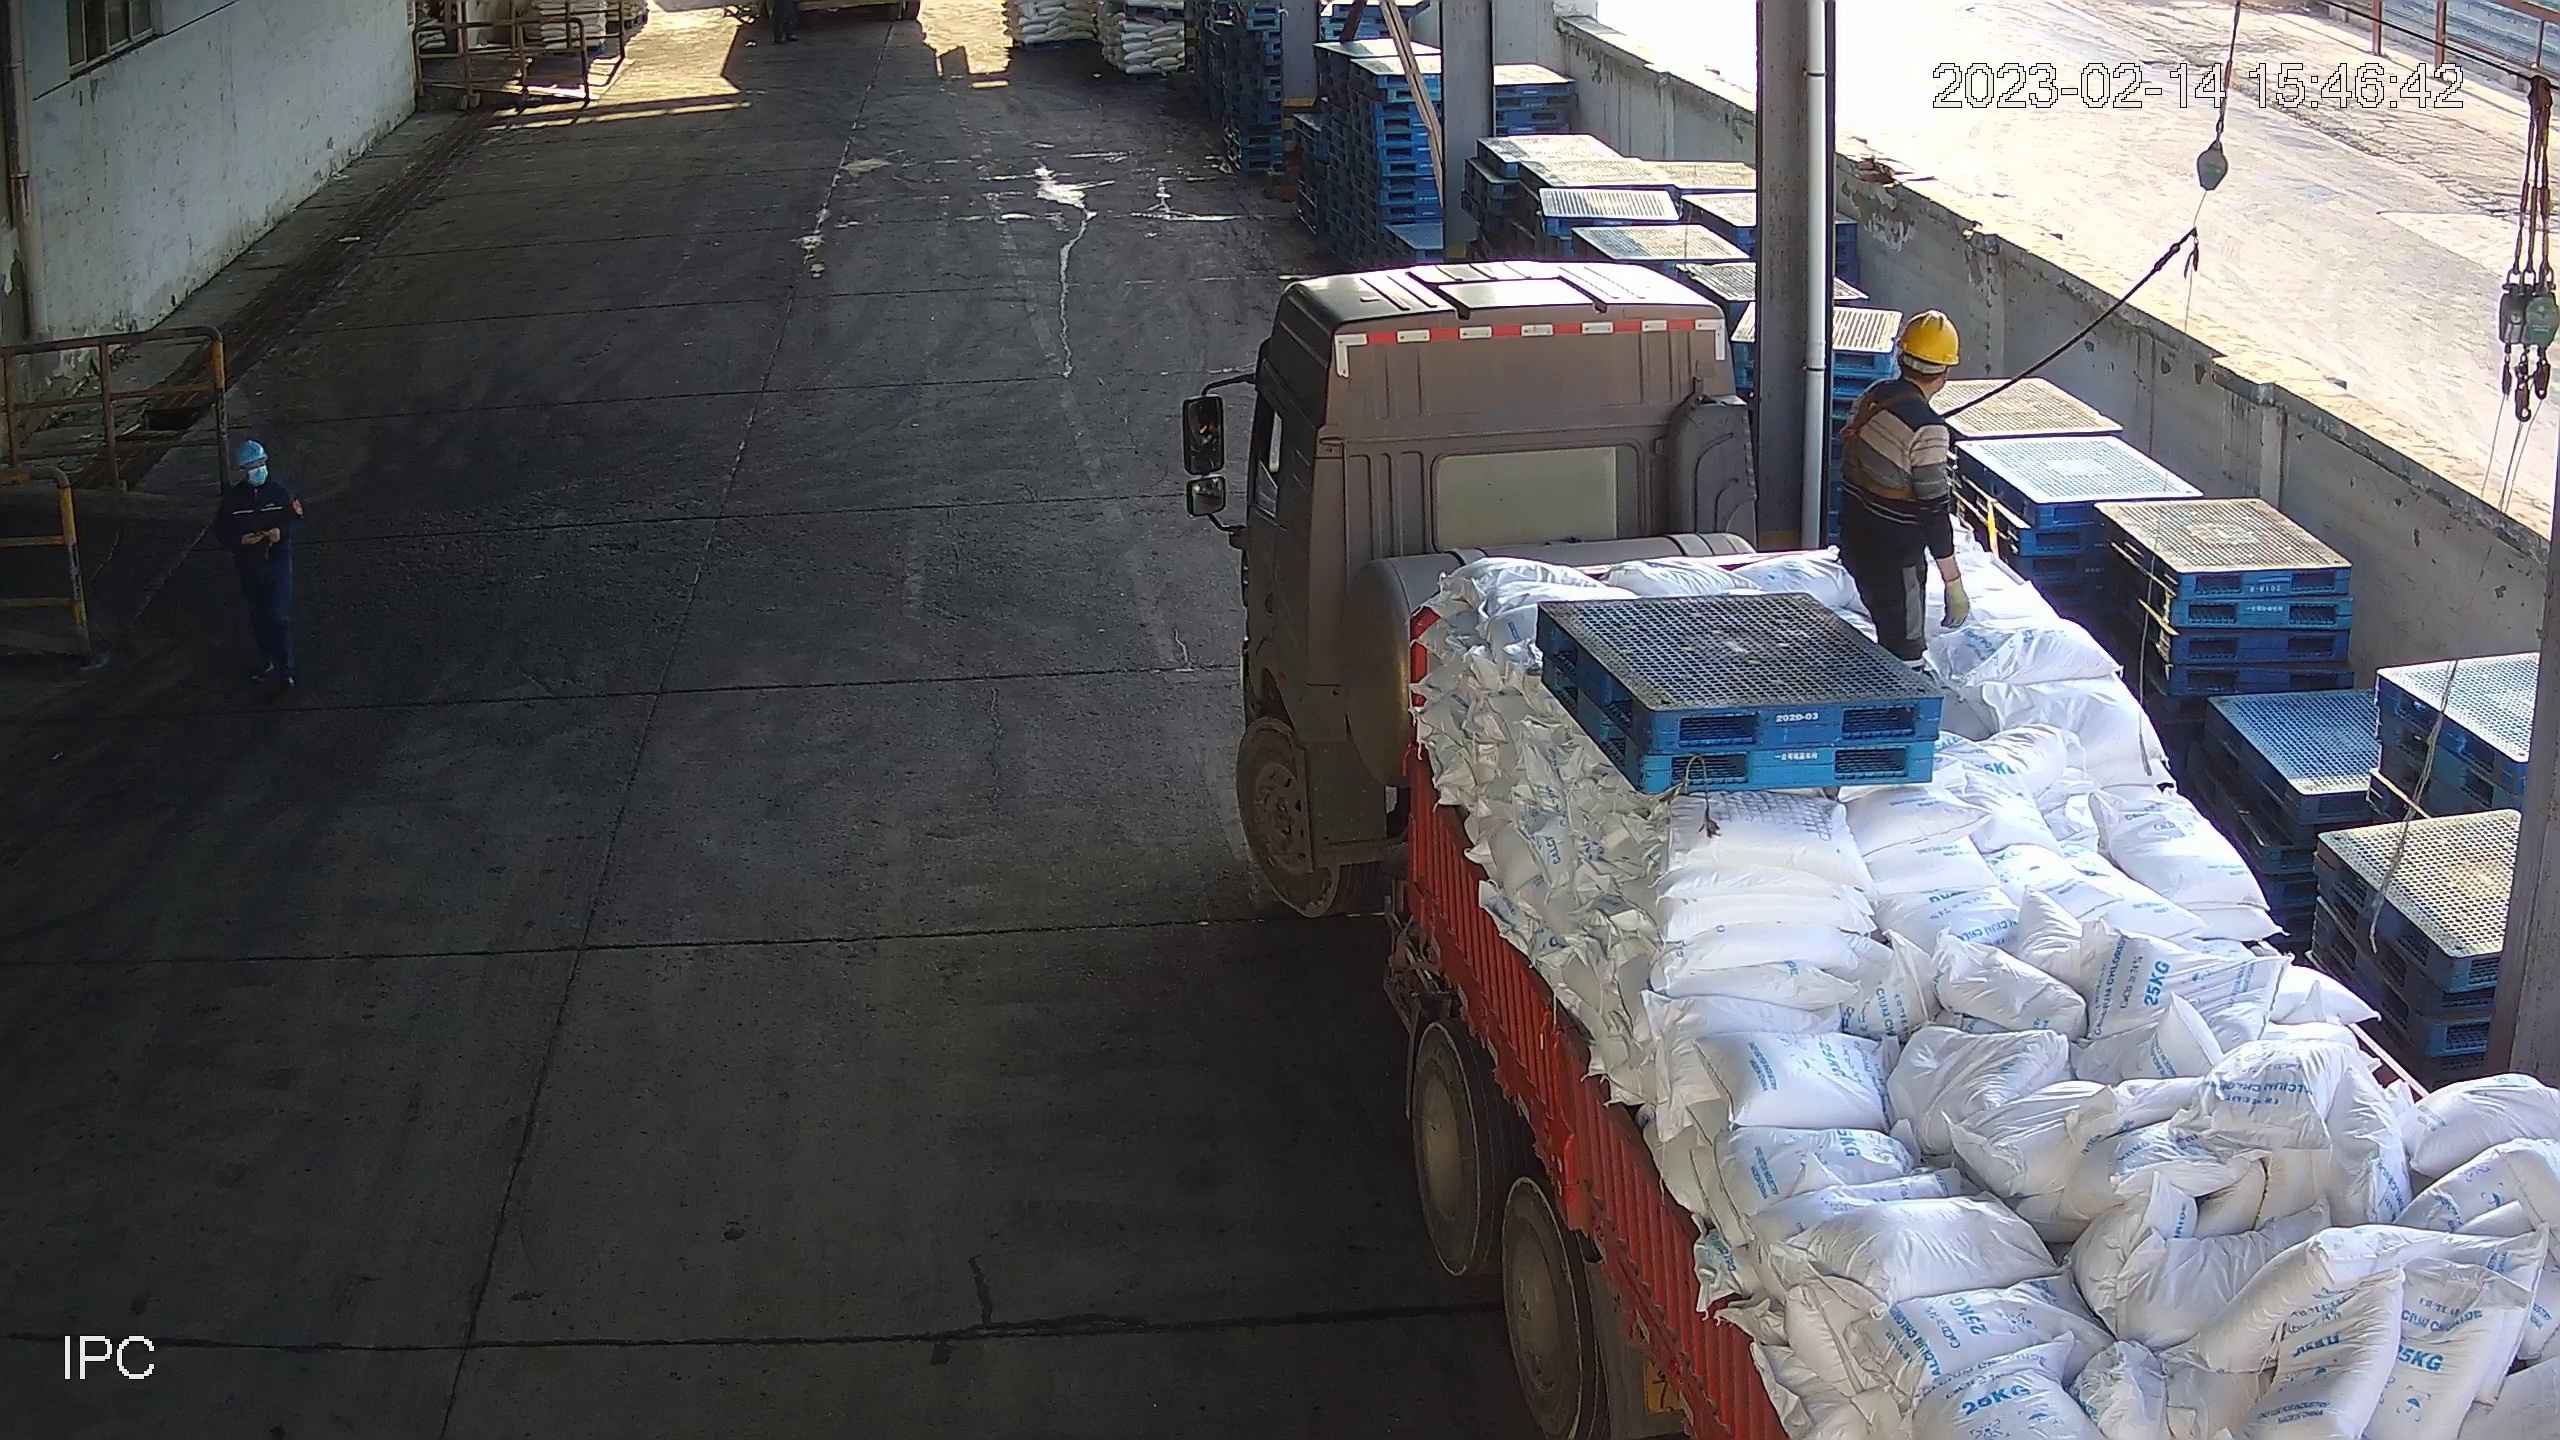belt: (1841, 384, 1967, 502)
head: (1845, 307, 1964, 449), (222, 438, 298, 507)
helmet: (1895, 307, 1961, 368), (232, 438, 271, 470)
people: (1834, 307, 1972, 676), (211, 438, 311, 691)
truck: (1230, 259, 2560, 1440)
